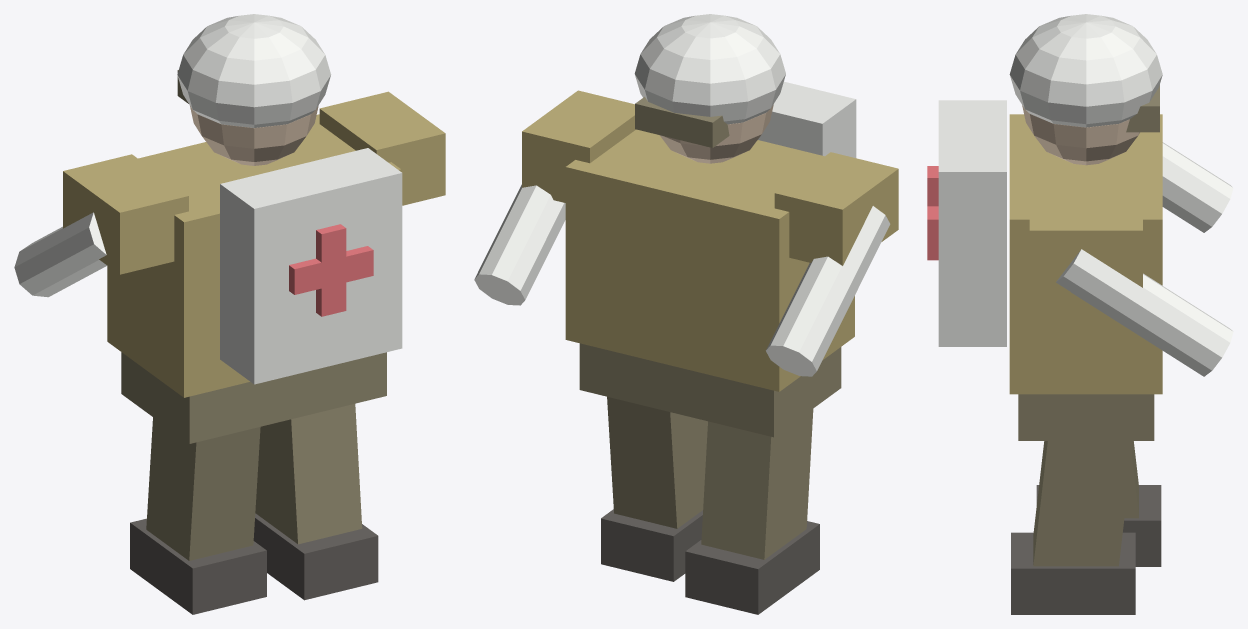
File: dm_medic.glb
The picture shows the model from 3 angles, left to right: view 1: azimuth 30°, elevation 25°; view 2: azimuth 150°, elevation 25°; view 3: azimuth 270°, elevation 25°; orthographic projection.
Parts seen in each view (by area): view 1: soldier; view 2: soldier; view 3: soldier.
Part boxes in pixels (x1=…): soldier: x1=14, y1=14, x2=445, y2=614; soldier: x1=474, y1=14, x2=898, y2=614; soldier: x1=927, y1=14, x2=1233, y2=614.
Size of the model in its own units: 0.6951 by 1.07 by 0.5397.
